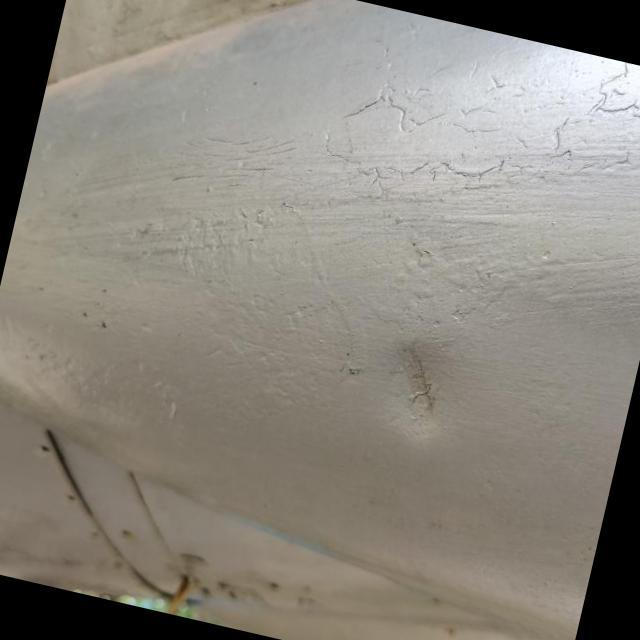Dent: (348, 313, 495, 461)
